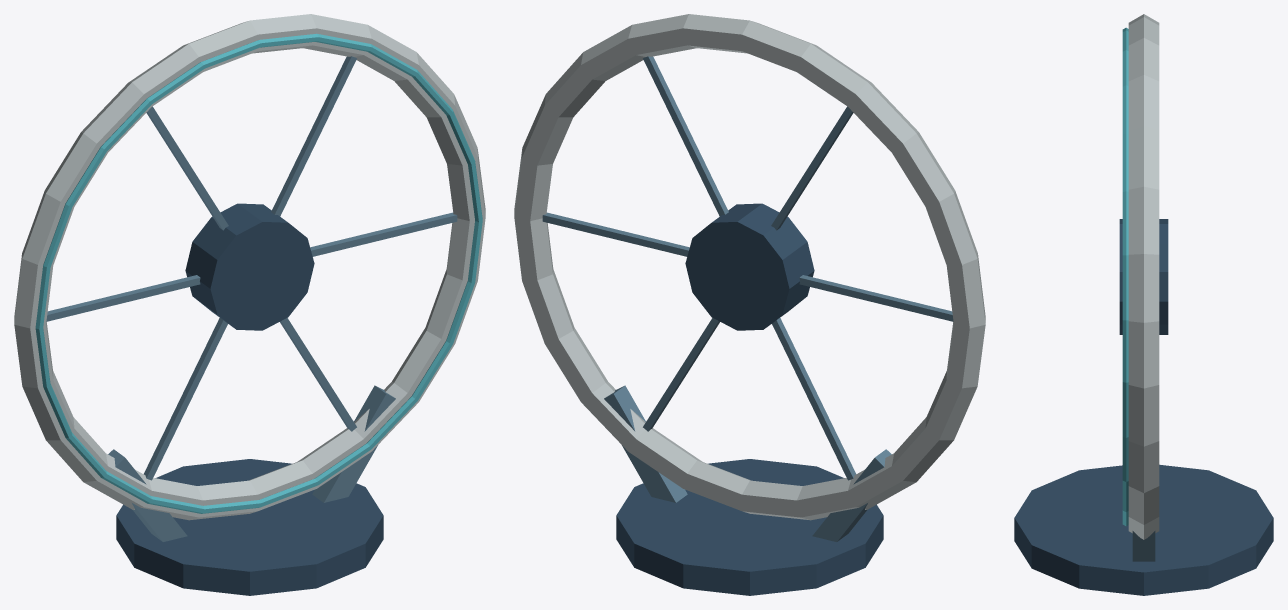
The model's file is SpaceStation_OrbitalRingBackdrop_Simple.glb.
3 views of the same model, side by side, from view 1: azimuth 30°, elevation 25°; view 2: azimuth 150°, elevation 25°; view 3: azimuth 270°, elevation 25° (orthographic). The views are drawn at different scales.
Visible parts, largest first — view 1: SpaceStation_OrbitalRingBackdrop_Simple; view 2: SpaceStation_OrbitalRingBackdrop_Simple; view 3: SpaceStation_OrbitalRingBackdrop_Simple.
Part boxes in pixels (<box>): SpaceStation_OrbitalRingBackdrop_Simple: <box>14,14,485,595</box>; SpaceStation_OrbitalRingBackdrop_Simple: <box>514,14,985,595</box>; SpaceStation_OrbitalRingBackdrop_Simple: <box>1014,14,1273,595</box>.
Bounding box in the file's own units: 16.3 × 17.15 × 8.
